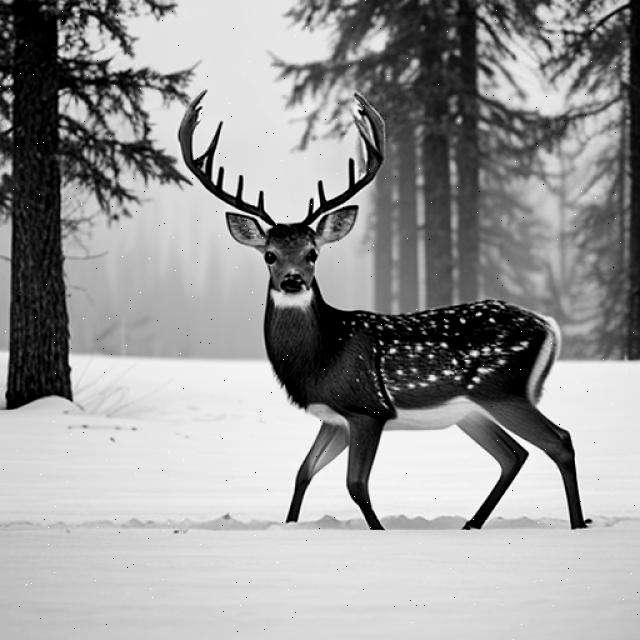deer: (181, 120, 578, 474)
